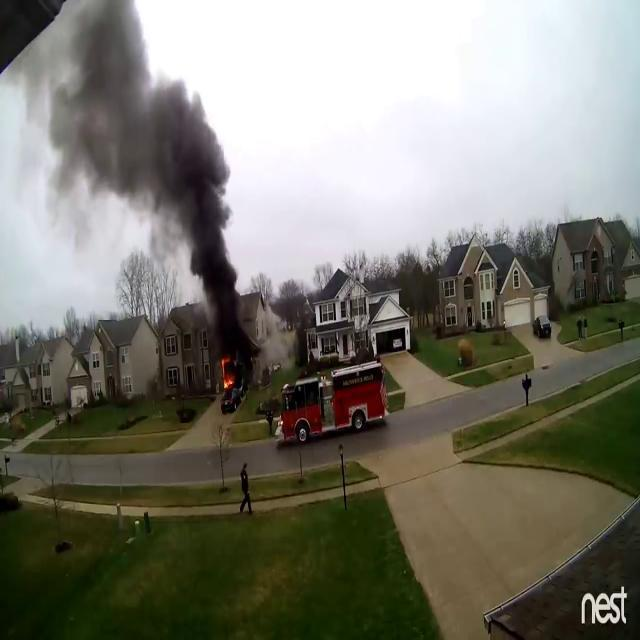Fire: (218, 352, 238, 396)
Smoke: (12, 0, 216, 223), (177, 125, 254, 358), (256, 302, 298, 378)
